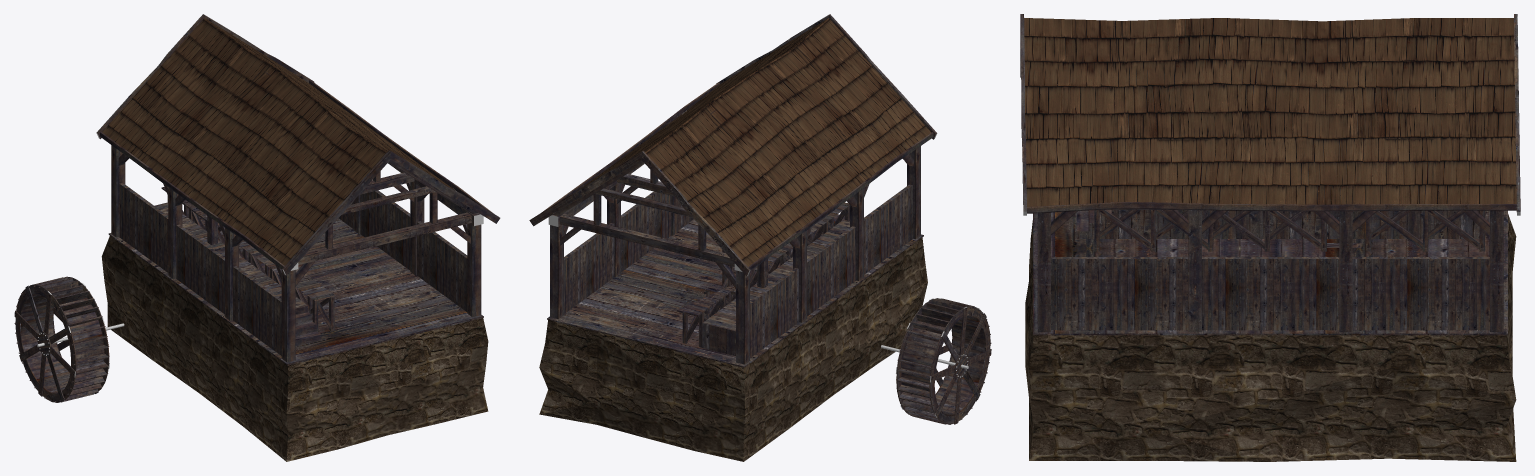
The model's file is watermill.fbx.
3 renders of one model, left to right at view 1: azimuth 30°, elevation 25°; view 2: azimuth 150°, elevation 25°; view 3: azimuth 270°, elevation 25°, orthographic. The views are drawn at different scales.
Parts seen in each view (by area): view 1: CIHNWBYCUGT6RAQZPG5S1BG3S, CIHNWBYCUGT6RAQZPG5S1BG3S.001; view 2: CIHNWBYCUGT6RAQZPG5S1BG3S, CIHNWBYCUGT6RAQZPG5S1BG3S.001; view 3: CIHNWBYCUGT6RAQZPG5S1BG3S.
Part boxes in pixels (box(x1,y1,x2,y2)): CIHNWBYCUGT6RAQZPG5S1BG3S: box(96, 14, 500, 461); CIHNWBYCUGT6RAQZPG5S1BG3S.001: box(14, 276, 124, 402); CIHNWBYCUGT6RAQZPG5S1BG3S: box(529, 14, 937, 461); CIHNWBYCUGT6RAQZPG5S1BG3S.001: box(881, 298, 991, 424); CIHNWBYCUGT6RAQZPG5S1BG3S: box(1020, 14, 1520, 461).
Bounding box in the file's own units: 1946 × 1500 × 1784.
